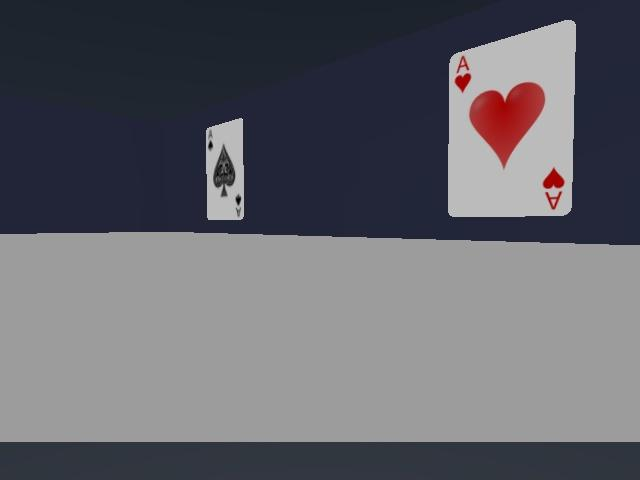heart: (448, 21, 576, 217)
spade: (206, 118, 243, 219)
